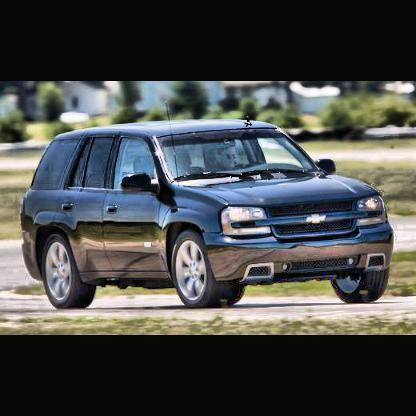Chevrolet TrailBlazer SS 2009: (22, 101, 396, 309)
